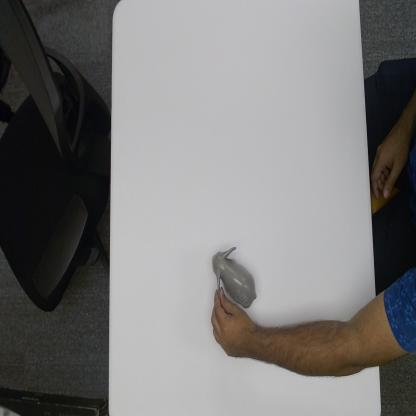Arm: (258, 300, 380, 379)
Elephant: (211, 247, 257, 309)
Hand: (211, 287, 258, 361)
